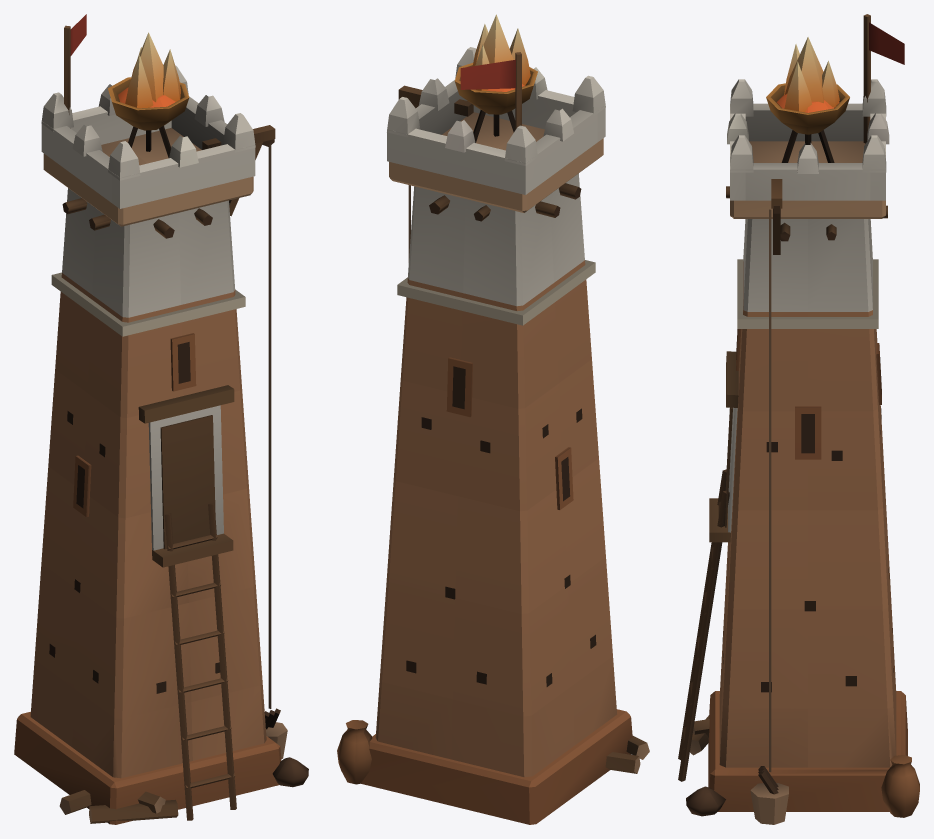
The model's file is fanal.glb.
3 renders of one model, left to right at view 1: azimuth 30°, elevation 25°; view 2: azimuth 150°, elevation 25°; view 3: azimuth 270°, elevation 25°, orthographic. The views are drawn at different scales.
Visible parts, largest first — view 1: fanal; view 2: fanal; view 3: fanal.
Boxes of the visible parts, x1,y1,x2,y2 form: fanal: (14, 14, 308, 824); fanal: (337, 14, 649, 824); fanal: (678, 14, 919, 824).
Bounding box in the file's own units: 0.8462 × 2.6 × 0.7754.
